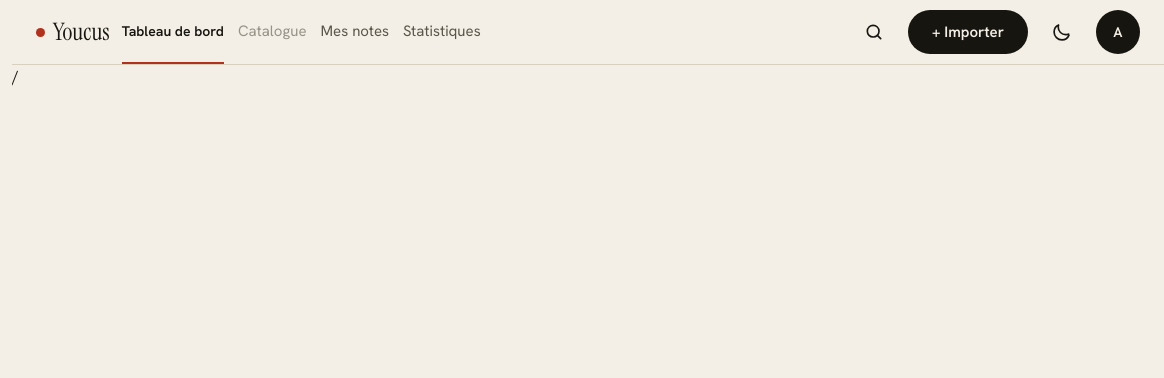
AccountMenu (Figma 108:142) › shows who is signed in, leads to the settings and to the data export
The image size is (1164, 378).
Click the button named "Compte de Alice Martin" at (1118, 32), box [1096,10,1140,54]
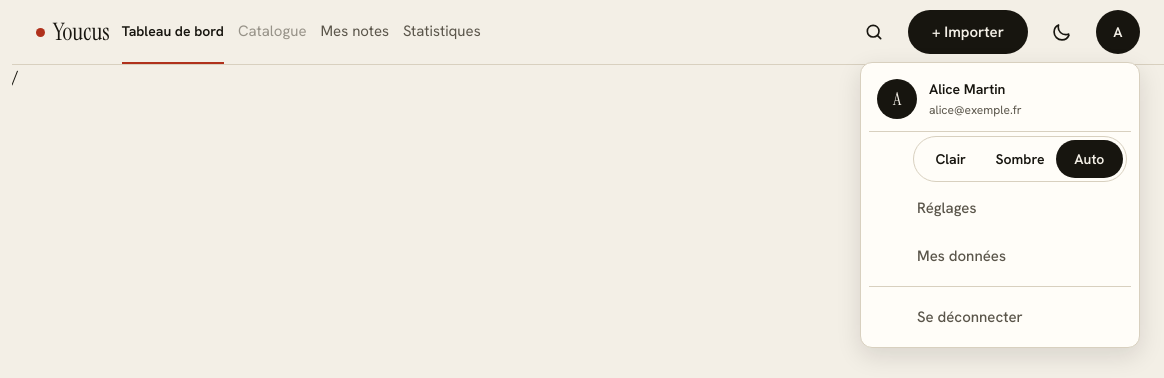
Expected: the text "alice@exemple.fr" is shown, [929,101,1022,119]
Click the link "Mes données" at (944, 256), box [881,244,1006,268]
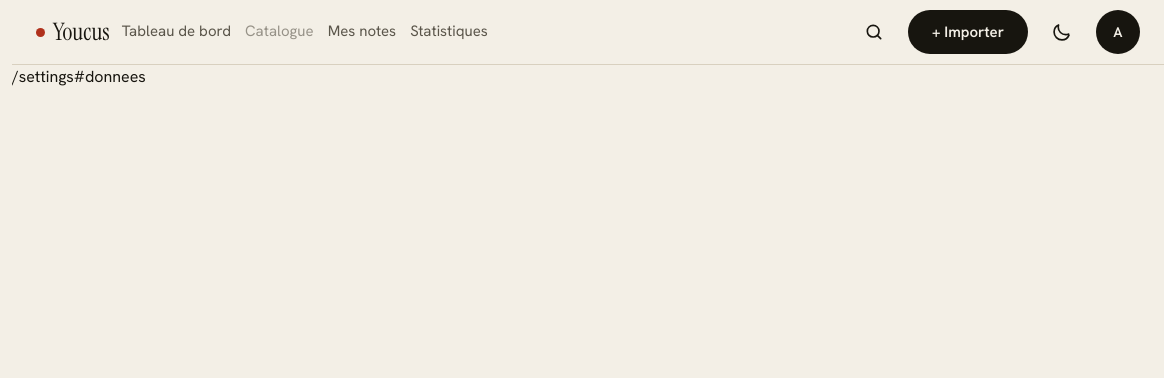
Expected: the text with test id "where" reads "/settings#donnees", [12,66,146,87]
Expected: the text "alice@exemple.fr" is gone
